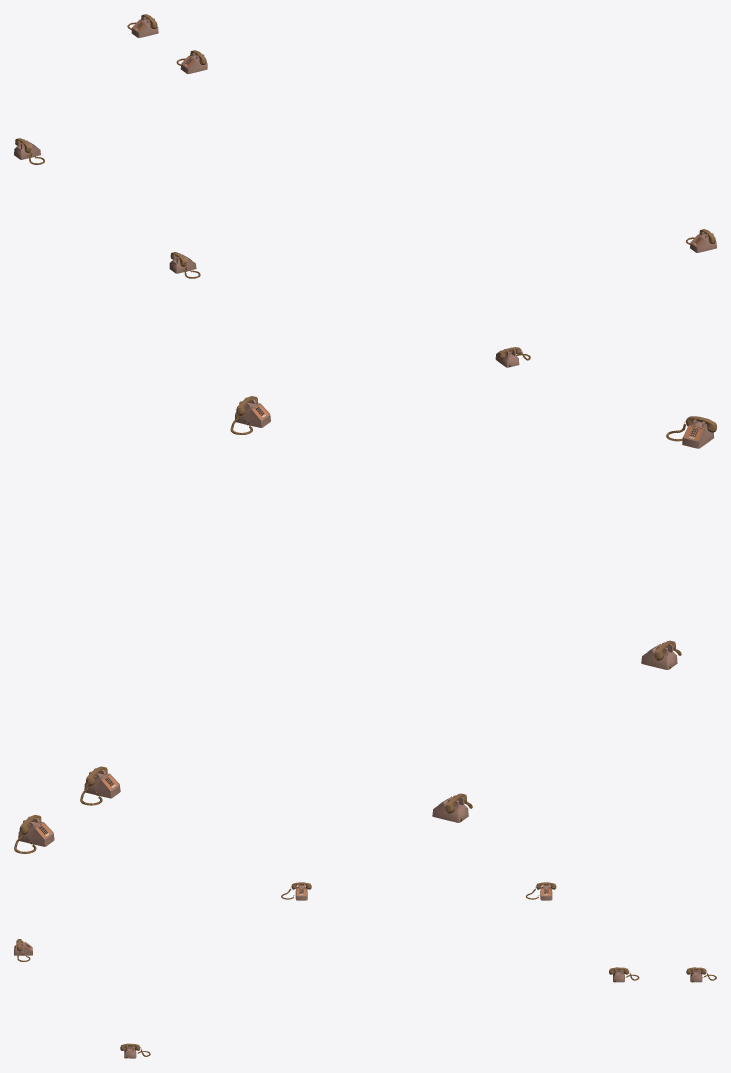
File: Phones_1.glb
The picture shows the model from 3 angles, top to bottom: view 1: azimuth 30°, elevation 25°; view 2: azimuth 150°, elevation 25°; view 3: azimuth 270°, elevation 25°; orthographic projection. The views are drawn at different scales.
Parts seen in each view (by area): view 1: Phones_1; view 2: Phones_1; view 3: Phones_1.
Boxes of the visible parts, box(x1,y1,x2,y2) form: Phones_1: box(14, 14, 716, 367); Phones_1: box(14, 396, 716, 853); Phones_1: box(14, 882, 716, 1058).
Size of the model in its own units: 18.18 by 0.6269 by 32.54.
Materials: 3 (3 with a texture image).
